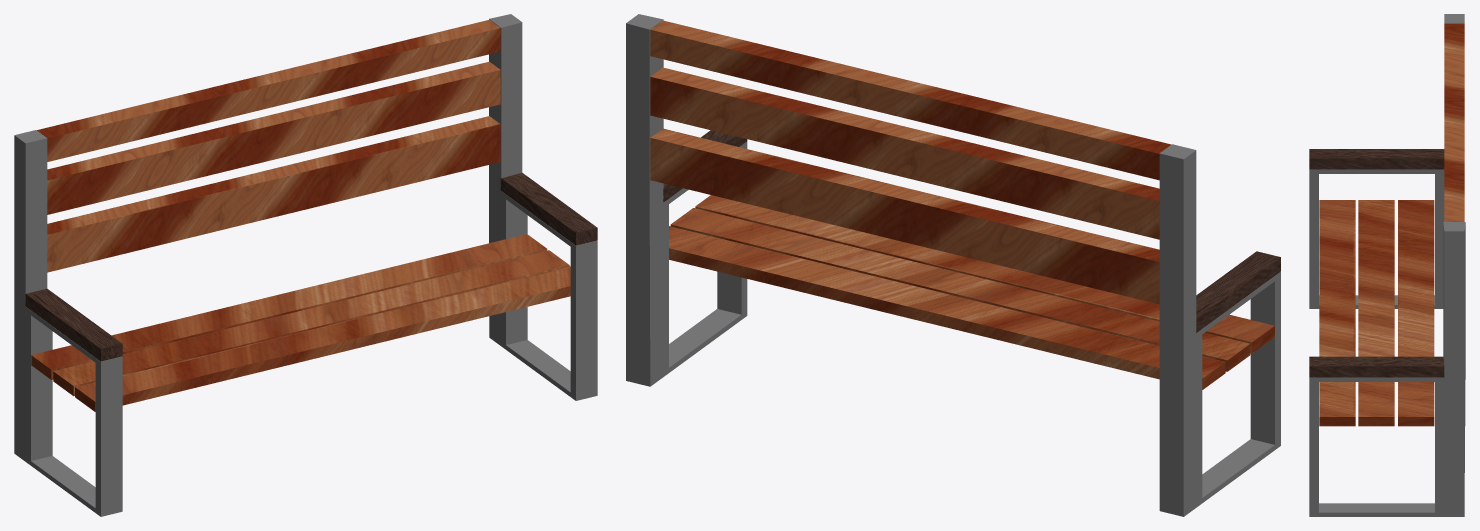
Rendered from Street Bench.fbx.
3 renders of one model, left to right at view 1: azimuth 30°, elevation 25°; view 2: azimuth 150°, elevation 25°; view 3: azimuth 270°, elevation 25°, orthographic. The views are drawn at different scales.
Visible parts, largest first — view 1: Upper Support, down support, handels, hands; view 2: Upper Support, down support, handels, hands; view 3: down support, handels, hands, Upper Support.
Boxes of the visible parts, left/top/right/bottom form: Upper Support: left=37, top=19, right=500, bottom=272; down support: left=31, top=234, right=570, bottom=411; handels: left=14, top=14, right=597, bottom=516; hands: left=25, top=172, right=597, bottom=361; Upper Support: left=650, top=20, right=1171, bottom=304; down support: left=669, top=195, right=1274, bottom=389; handels: left=626, top=14, right=1280, bottom=516; hands: left=663, top=130, right=1280, bottom=332; down support: left=1319, top=200, right=1434, bottom=426; handels: left=1309, top=14, right=1465, bottom=516; hands: left=1309, top=149, right=1444, bottom=377; Upper Support: left=1444, top=24, right=1464, bottom=221.
Bounding box in the file's own units: 1391 × 852 × 422.
